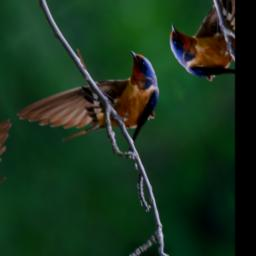Swallow: (14, 31, 181, 200)
